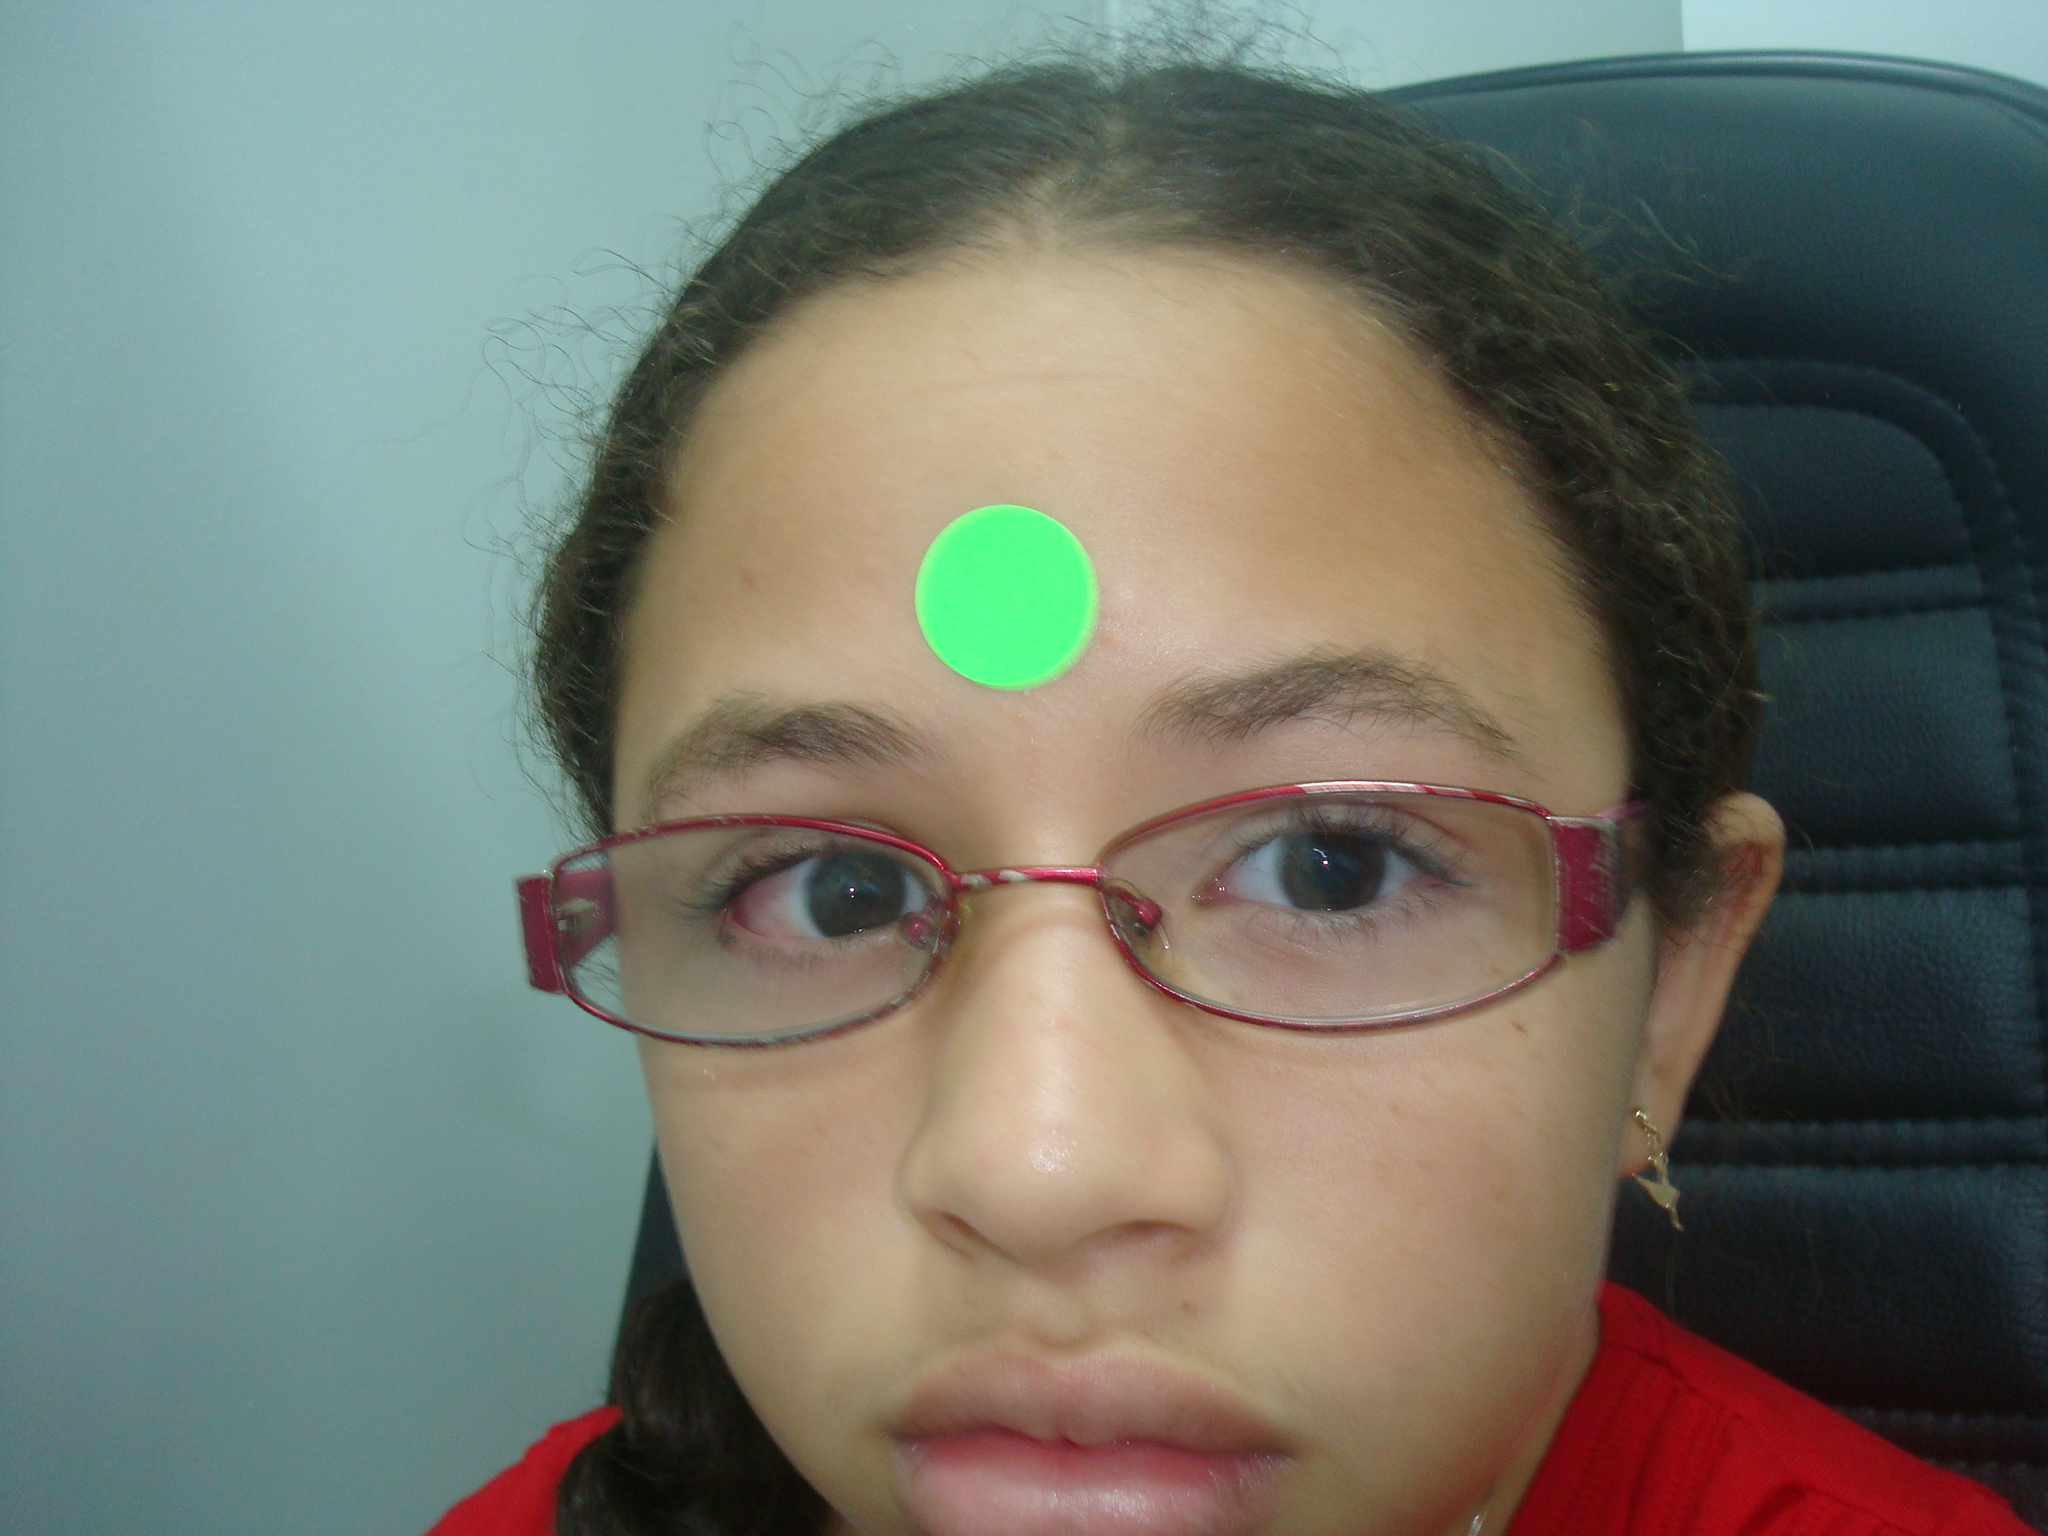flash: (847, 884, 860, 897), (1321, 857, 1330, 868)
limbo: (1279, 818, 1380, 913), (803, 842, 900, 937)
